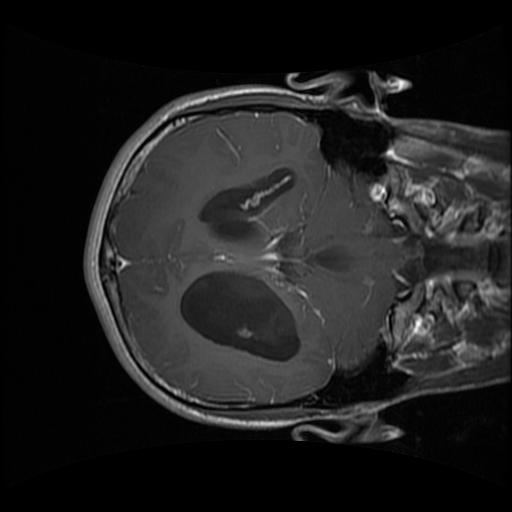glioma: (179, 272, 298, 364)
